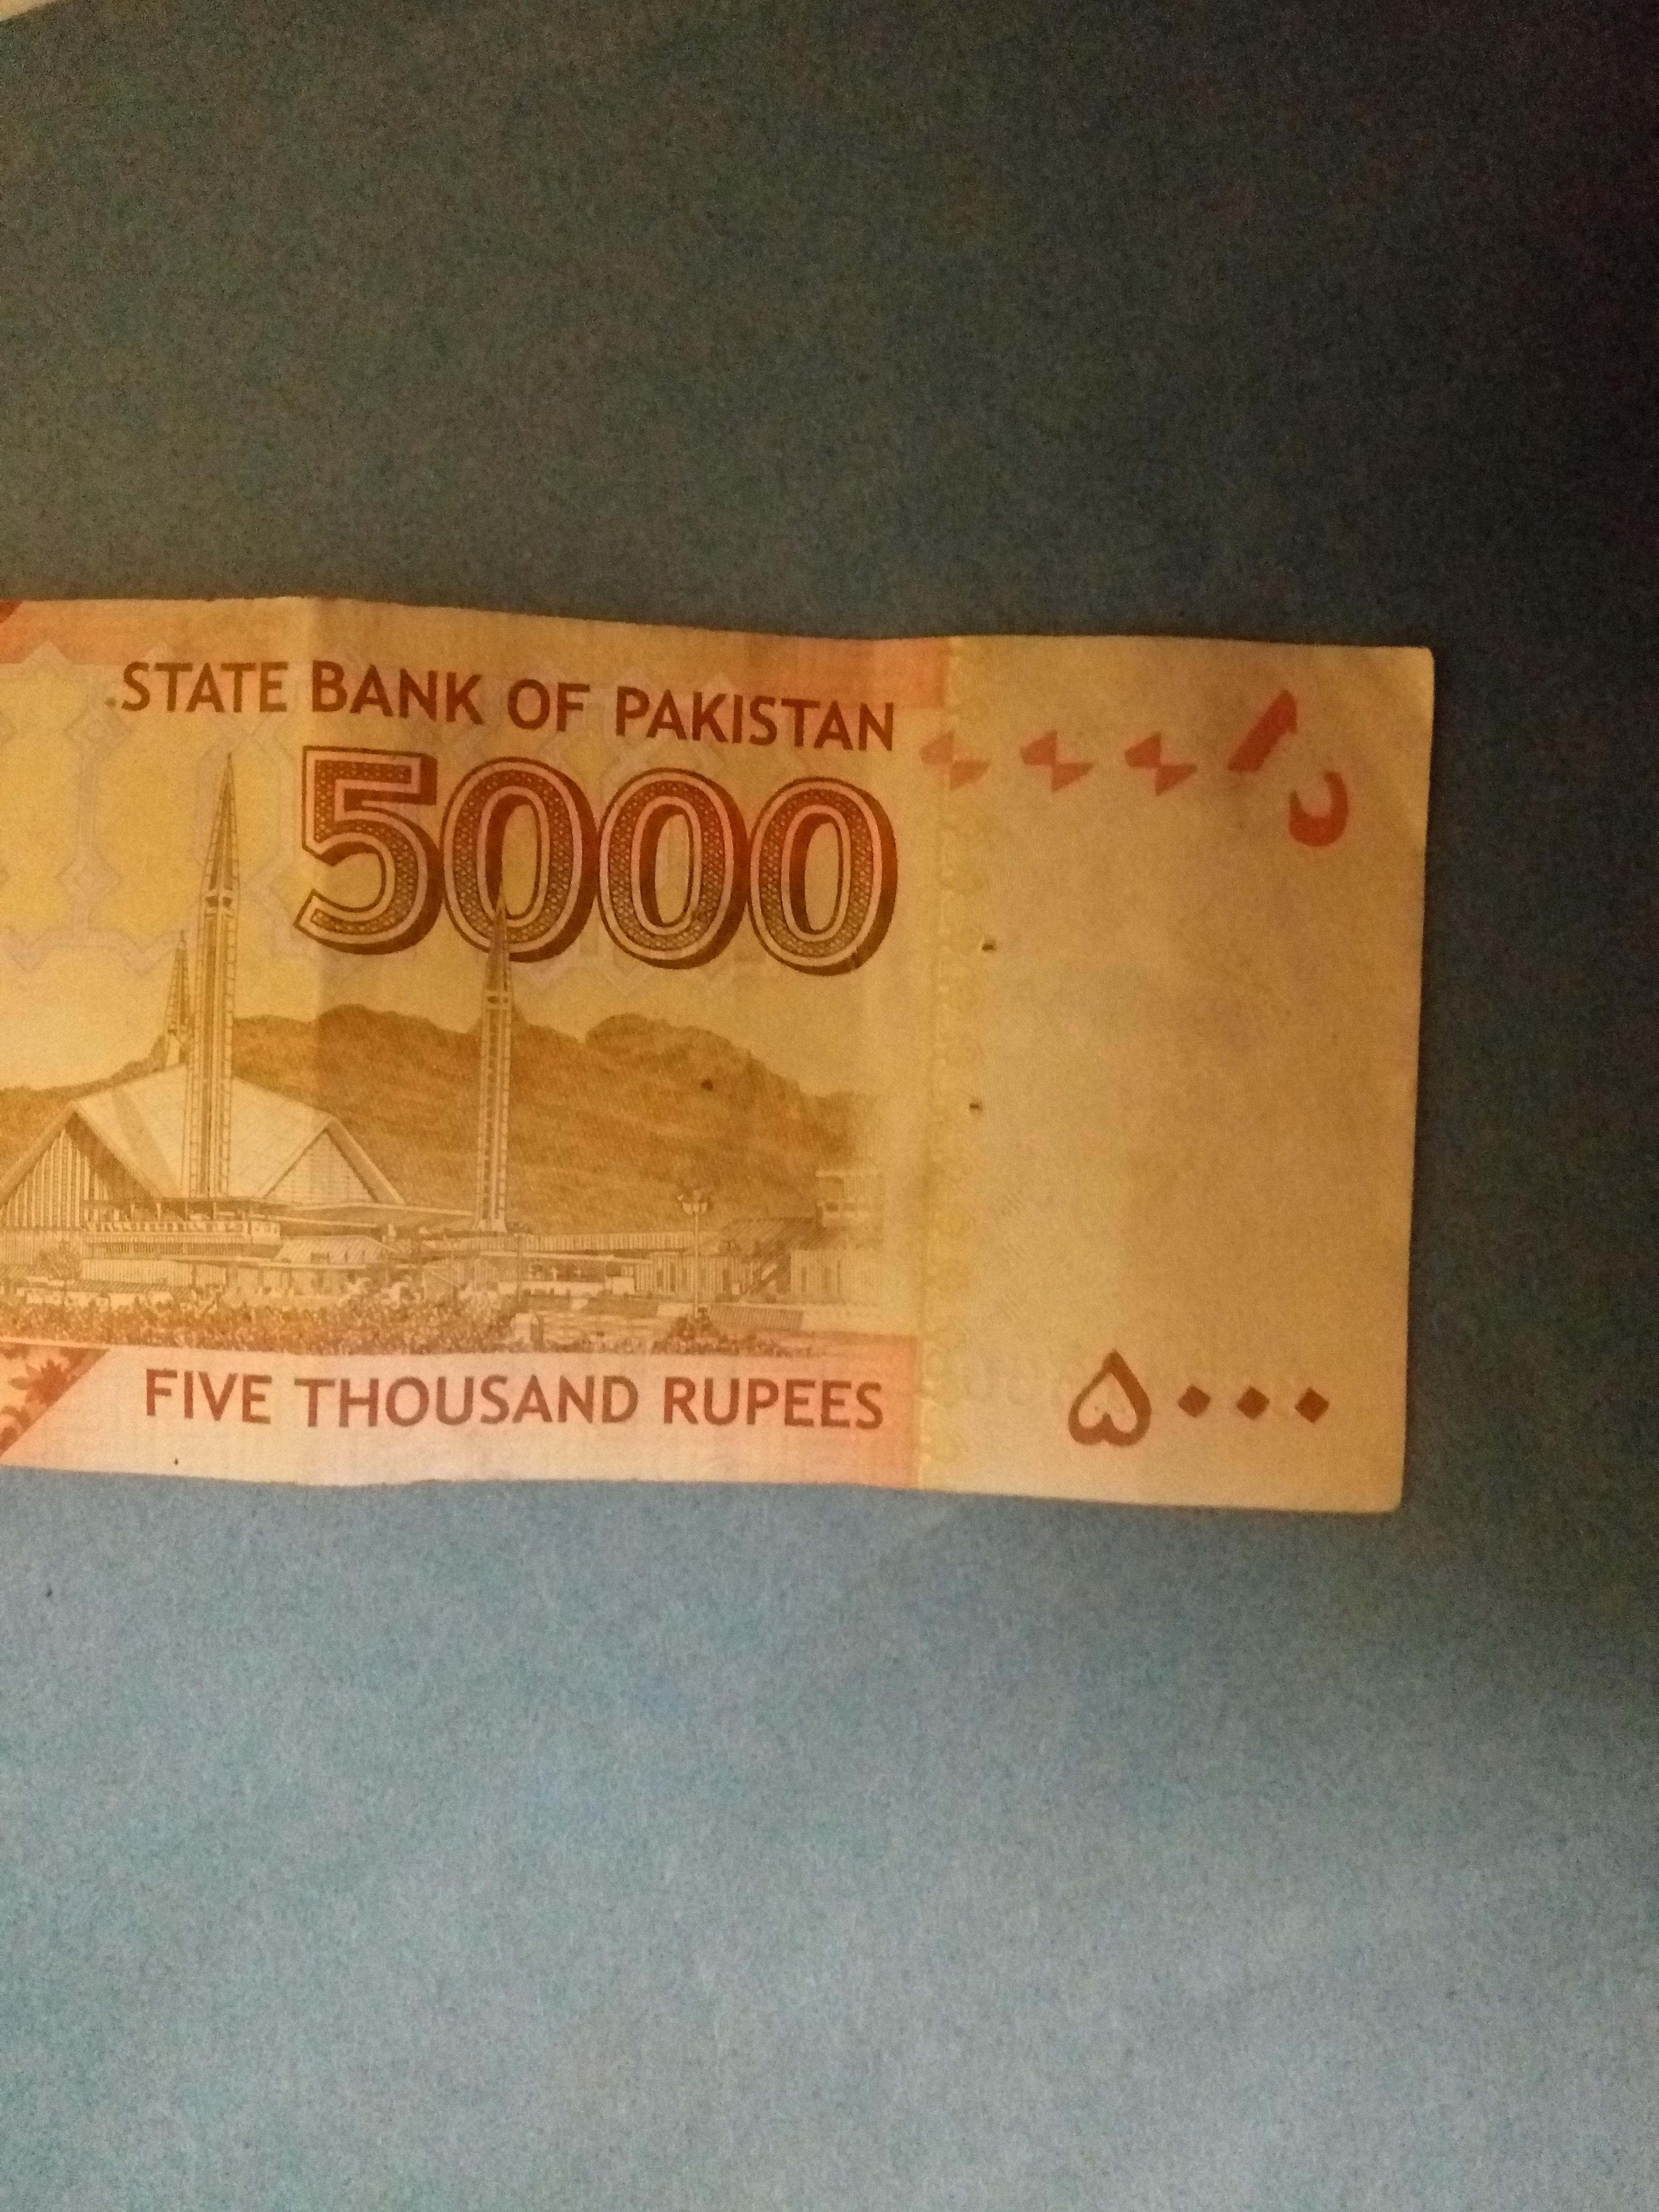5000 rupee: (24, 556, 1466, 1571)
